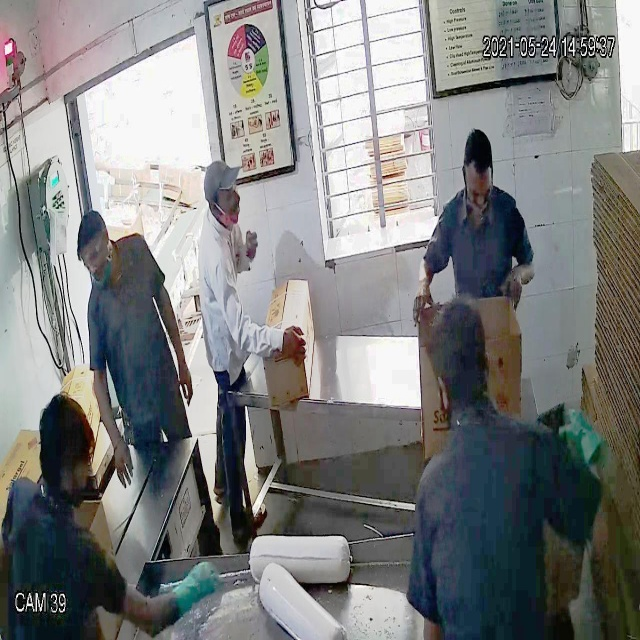Gafas: (77, 237, 105, 274)
